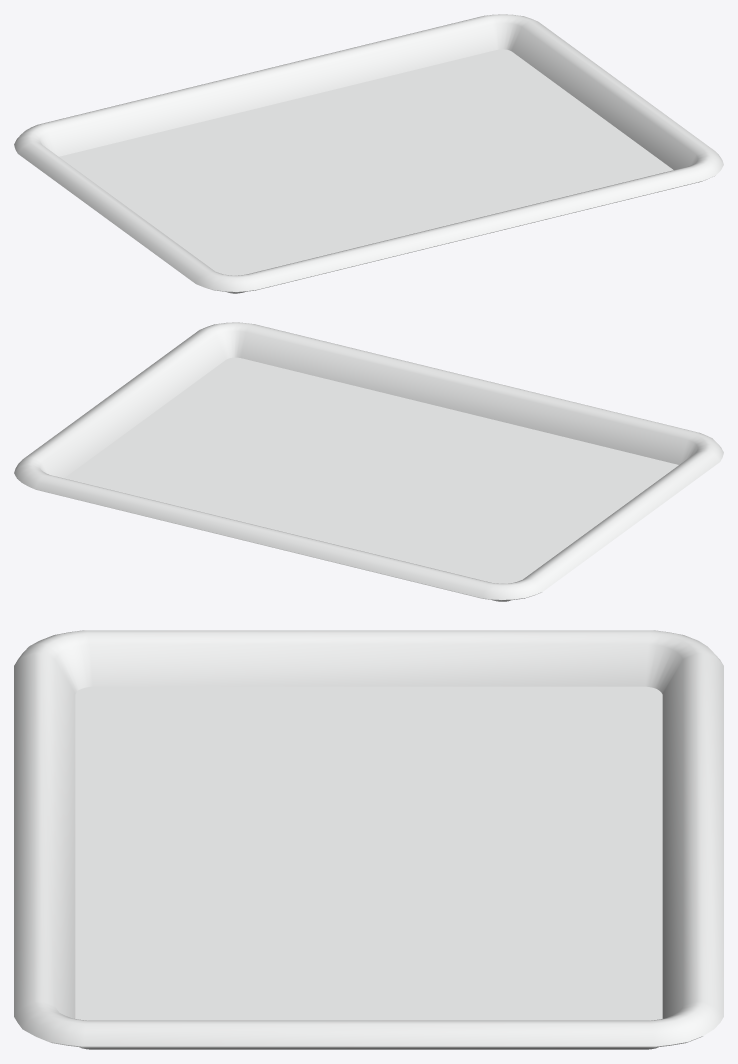
Rendered from tray.glb.
3 renders of one model, top to bottom at view 1: azimuth 30°, elevation 25°; view 2: azimuth 150°, elevation 25°; view 3: azimuth 270°, elevation 25°, orthographic. The views are drawn at different scales.
Parts seen in each view (by area): view 1: Tray; view 2: Tray; view 3: Tray.
Boxes of the visible parts, x1,y1,x2,y2 form: Tray: (14, 14, 723, 293); Tray: (14, 322, 723, 601); Tray: (14, 630, 723, 1049).
Bounding box in the file's own units: 7.83 × 0.3723 × 5.71.
1 material, 1 textured.
